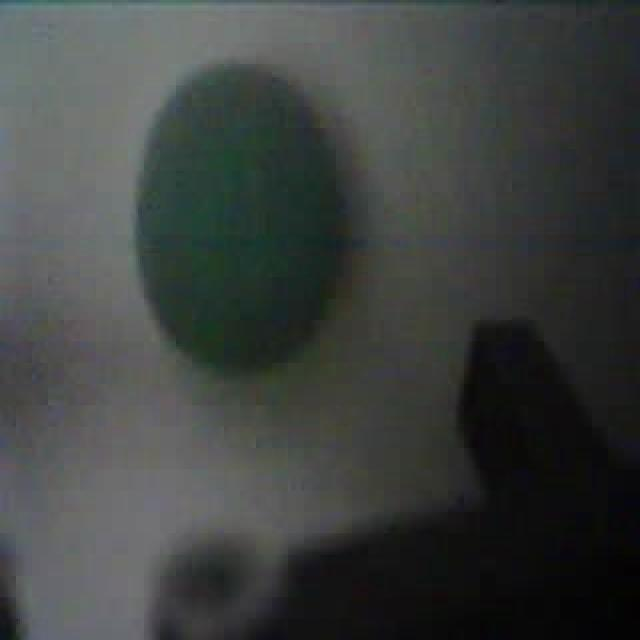green_ball: (130, 56, 354, 373)
